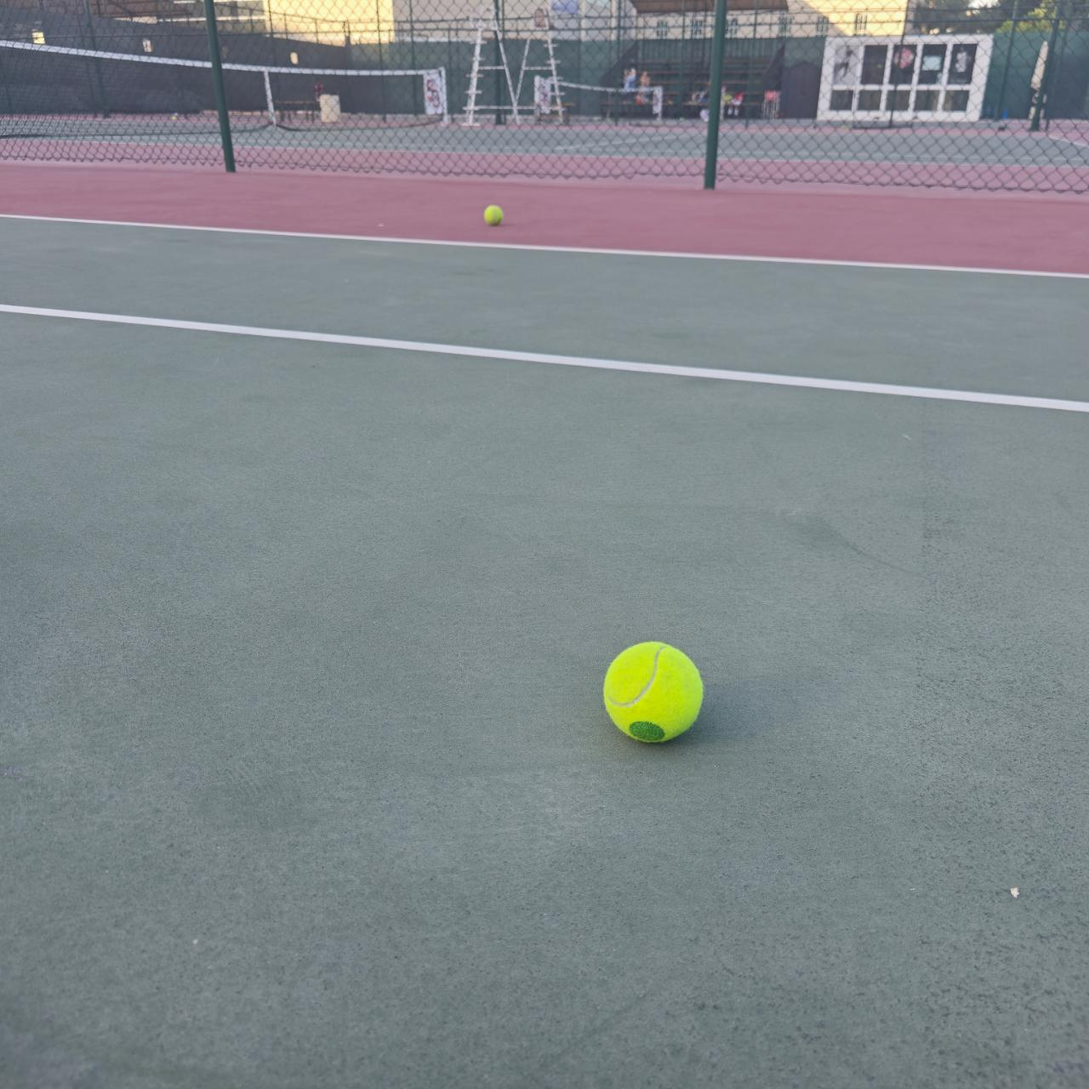tennis-ball: (600, 636, 705, 745), (484, 205, 504, 226)
